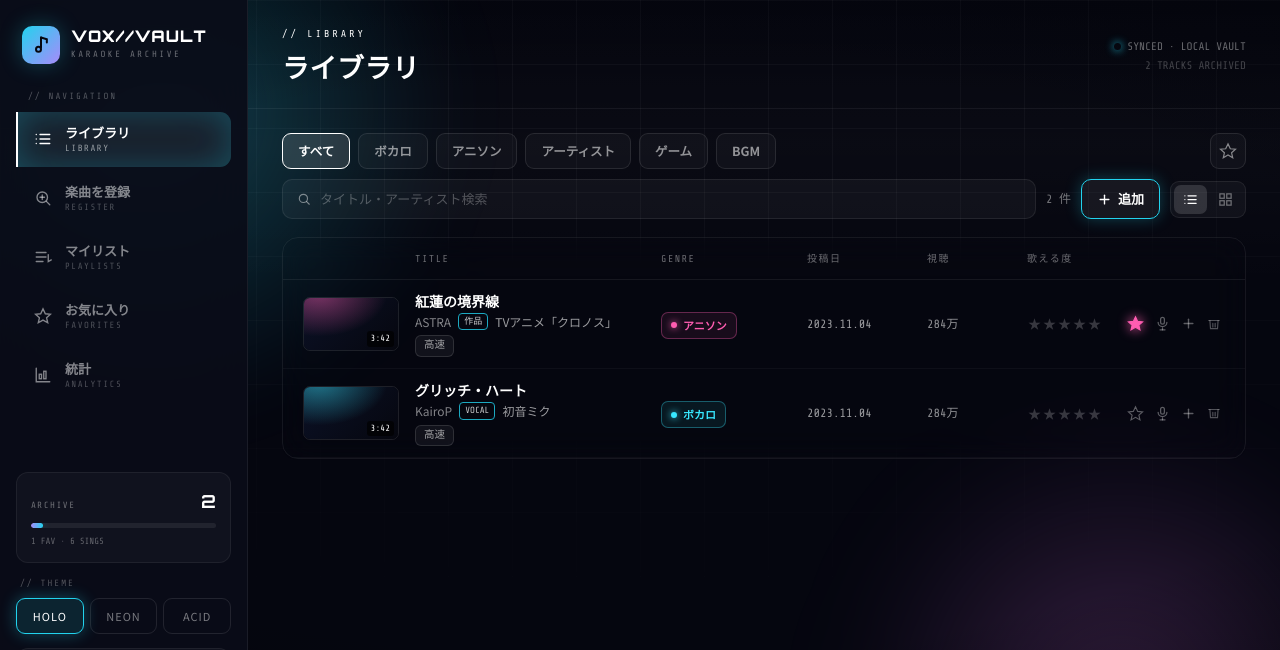
navigates between screens
The width and height of the screenshot is (1280, 650).
expect the button "グリッチ・ハート" is shown: met, box [415,380,527,400]
Note: go to Register
Click the text "楽曲を登録" at {"x": 98, "y": 191}, box [65,182,130,201]
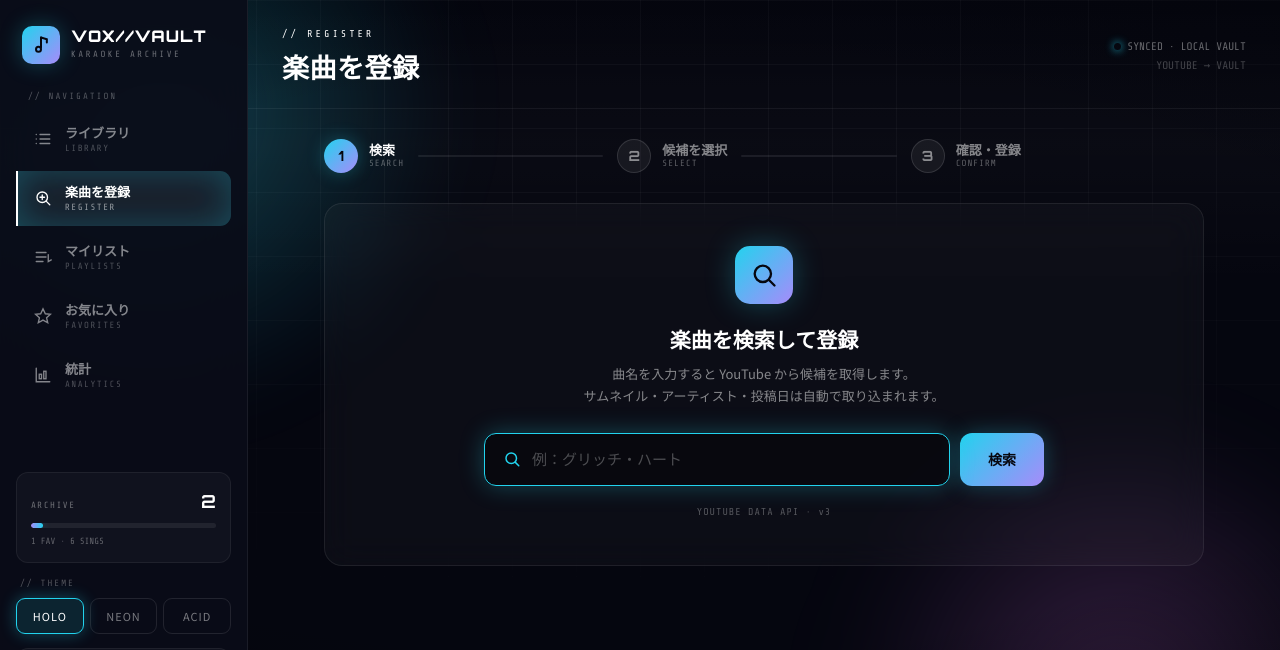
expect the heading "楽曲を検索して登録" is shown: met, box [670,324,858,354]
Note: go to Stats
Click the text "統計" at {"x": 78, "y": 368}, box [65,358,91,378]
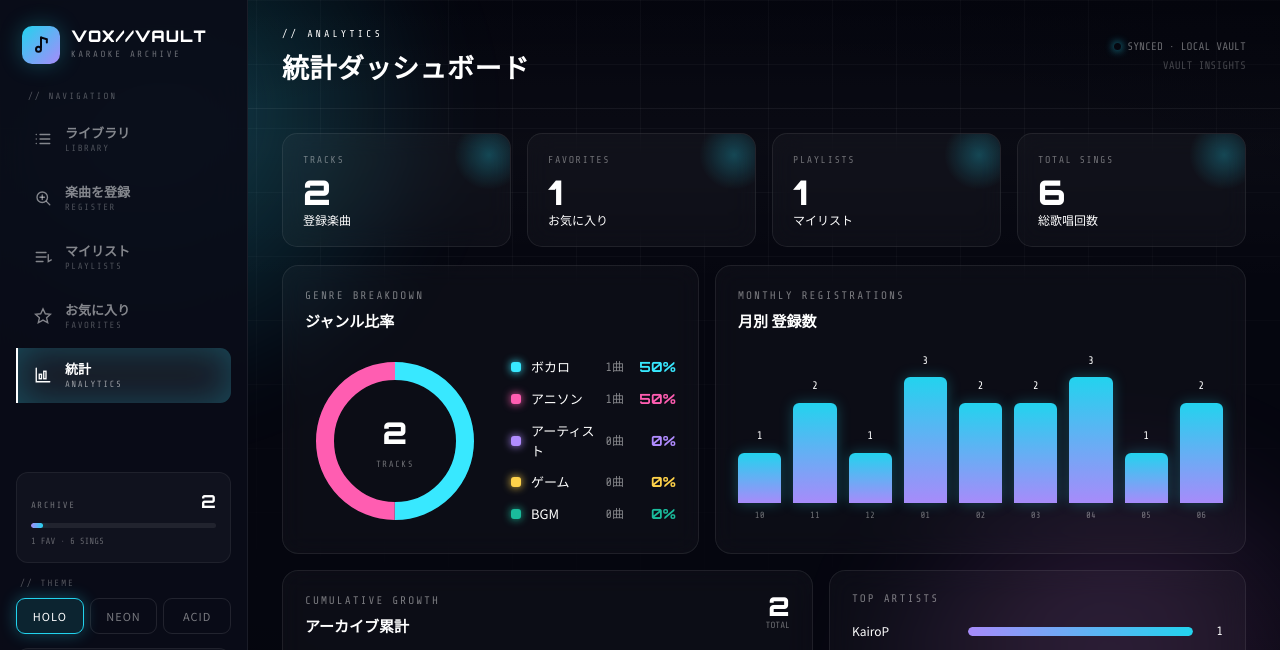
expect the text "ジャンル比率" is shown: met, box [305,310,394,331]
